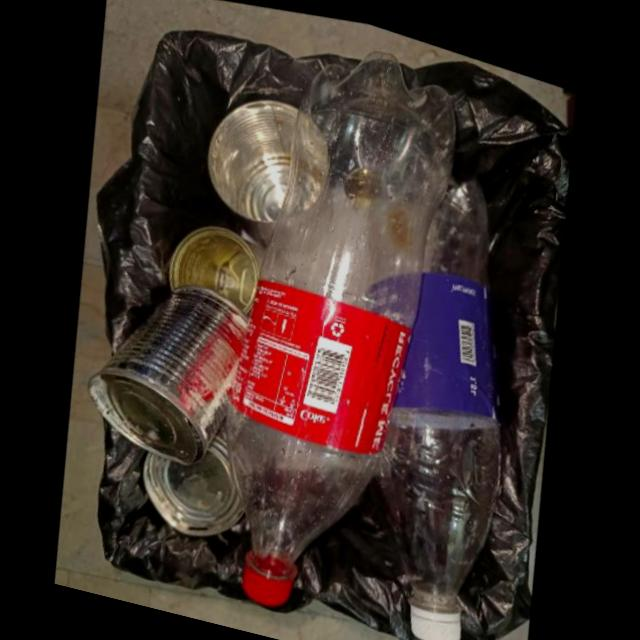chai_nhua_pet: (226, 47, 458, 600), (370, 166, 503, 637)
nhom: (88, 285, 246, 460), (210, 95, 298, 245), (143, 414, 244, 533), (166, 218, 263, 326)
